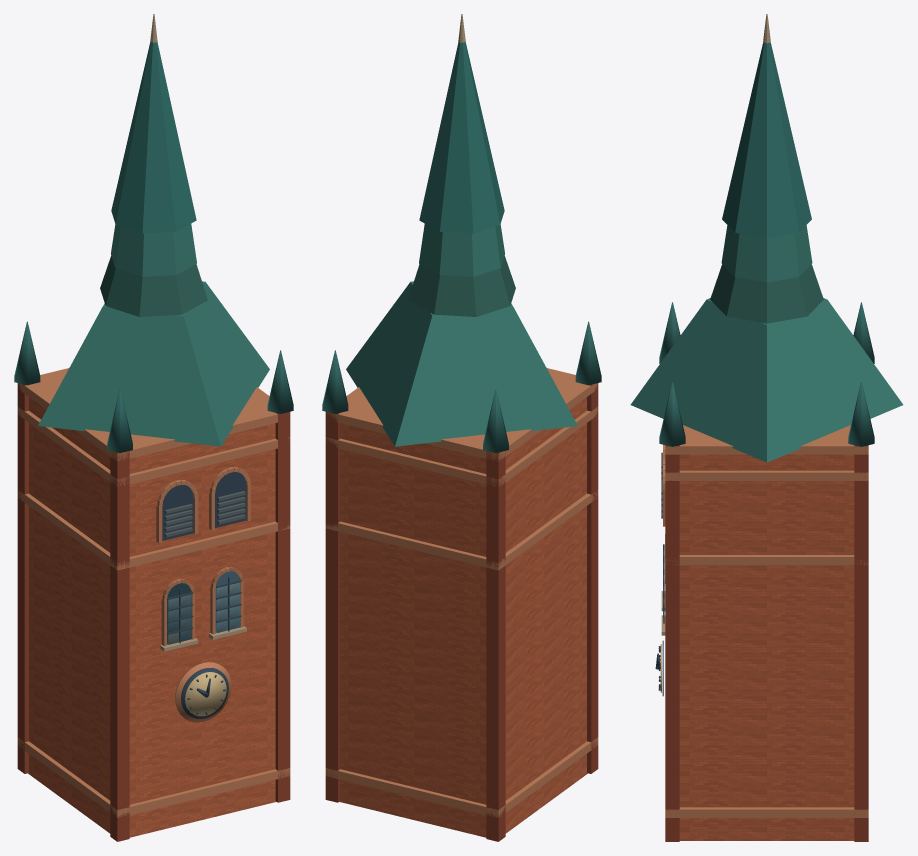
Rendered from copper-spire.glb.
The picture shows the model from 3 angles, left to right: view 1: azimuth 30°, elevation 25°; view 2: azimuth 150°, elevation 25°; view 3: azimuth 270°, elevation 25°; orthographic projection.
Visible parts, largest first — view 1: copper-spire; view 2: copper-spire; view 3: copper-spire.
Part boxes in pixels (x1,y1,x2,y2): copper-spire: [14, 14, 293, 841]; copper-spire: [322, 14, 601, 841]; copper-spire: [630, 14, 903, 841].
Size of the model in its own units: 11.28 by 35.8 by 11.28.
Materials: 2 (1 with a texture image).
